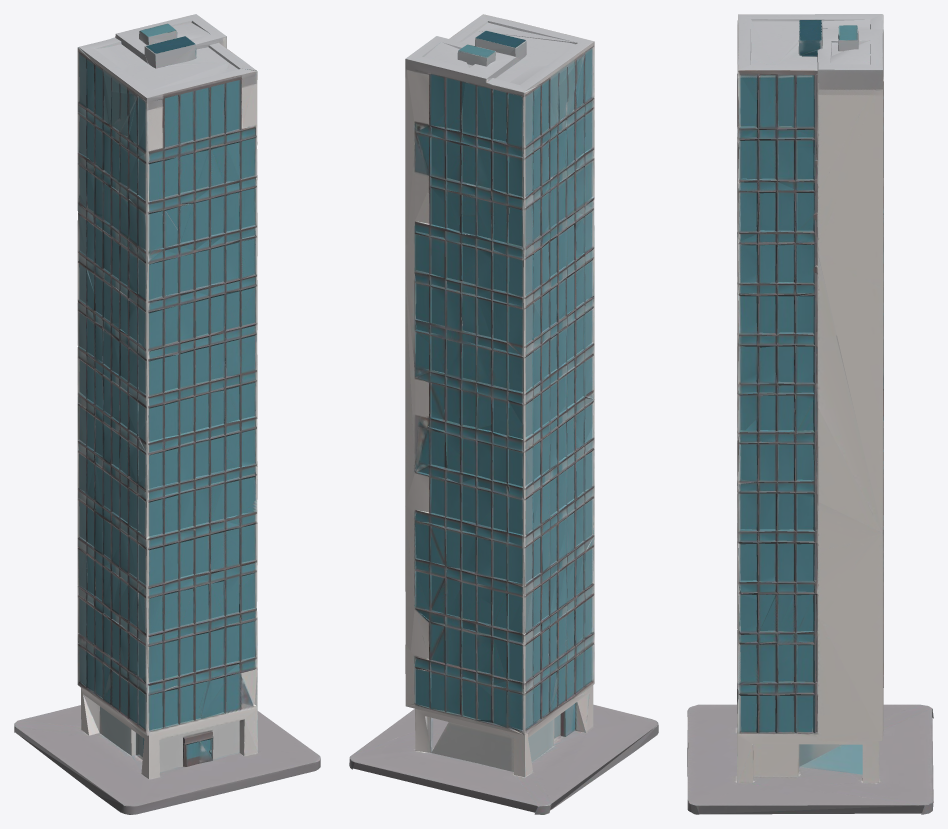
The model's file is building-corporate.glb.
3 views of the same model, side by side, from view 1: azimuth 30°, elevation 25°; view 2: azimuth 150°, elevation 25°; view 3: azimuth 270°, elevation 25° (orthographic). The views are drawn at different scales.
Bounding box in the file's own units: 0.5628 × 1.9 × 0.5767.
Materials: 1 (1 with a texture image).
